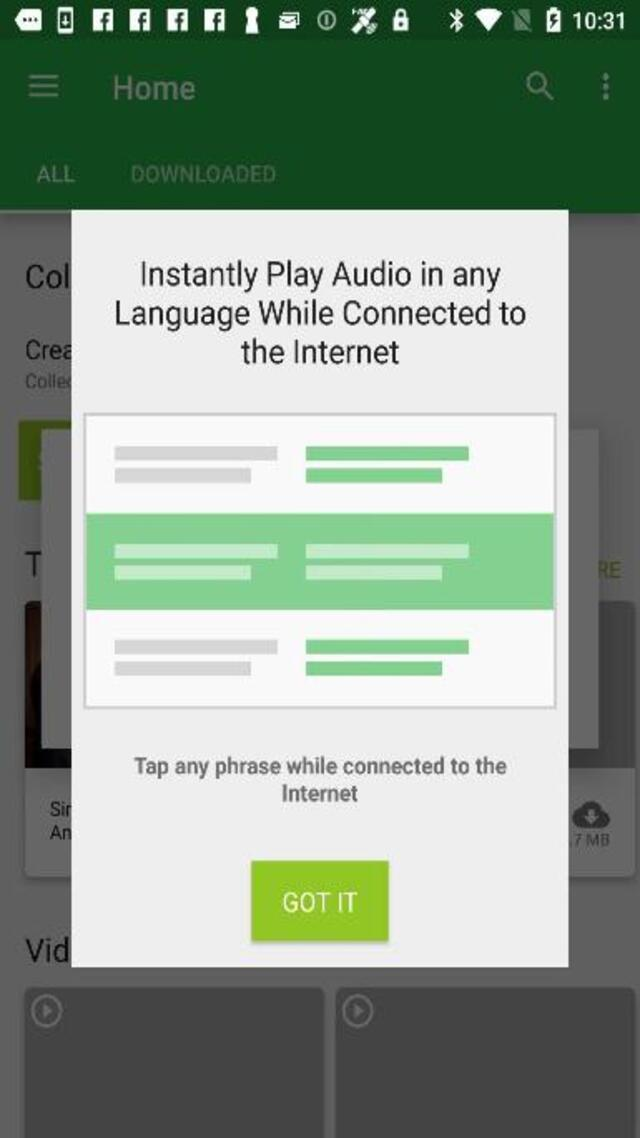Icon: (526, 72, 554, 99), (28, 74, 58, 97), (604, 73, 610, 101)
Image: (82, 412, 556, 708)
Text: (107, 297, 530, 333), (135, 258, 506, 292), (130, 754, 512, 779), (233, 336, 408, 371), (132, 166, 277, 184), (277, 780, 364, 809), (281, 888, 361, 919), (114, 74, 195, 100), (36, 166, 74, 184)
TextButton: (250, 858, 388, 941)
